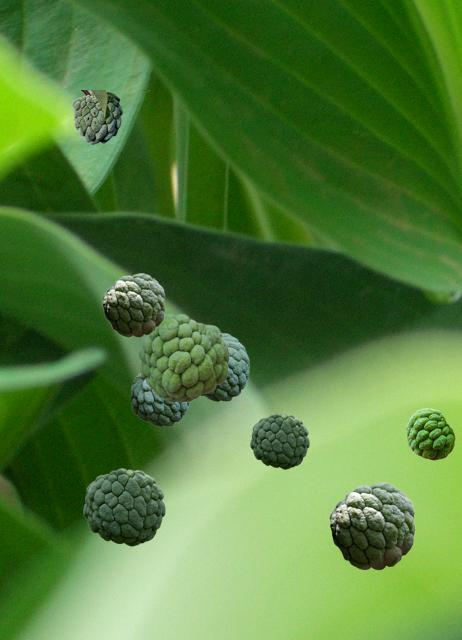atis: (138, 314, 228, 401), (329, 482, 414, 569), (83, 468, 164, 545), (72, 90, 148, 143), (102, 273, 164, 336), (250, 413, 308, 468), (201, 333, 248, 400), (131, 374, 189, 425), (406, 408, 454, 459)
